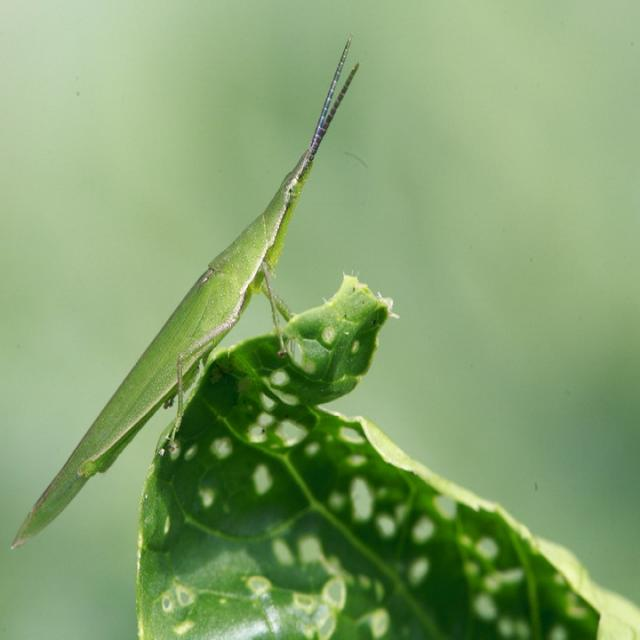ZhaMeng: (8, 41, 376, 566)
